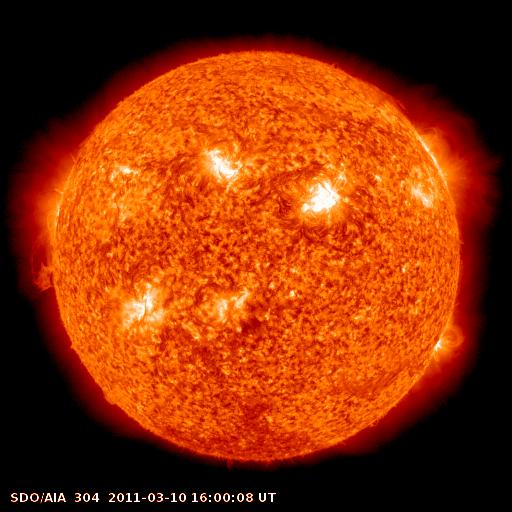prominence: (11, 222, 68, 307)
